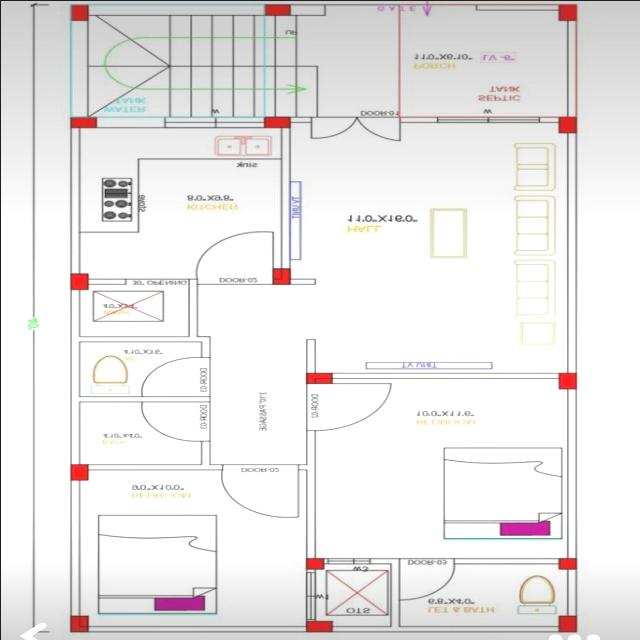Blueprint: (52, 0, 598, 640)
column: (66, 458, 94, 482), (64, 613, 90, 634), (554, 369, 580, 390), (67, 1, 93, 22), (261, 1, 293, 18), (552, 614, 578, 634), (267, 266, 293, 286), (65, 270, 91, 290), (554, 114, 579, 134), (556, 0, 578, 22), (302, 370, 334, 385), (261, 113, 291, 129), (302, 619, 334, 633), (553, 555, 579, 571), (67, 115, 99, 128), (302, 554, 326, 570)
wall: (563, 130, 579, 374), (82, 1, 268, 18), (66, 287, 82, 466), (563, 386, 579, 560), (274, 125, 292, 271), (66, 123, 83, 274), (84, 623, 308, 634), (66, 18, 90, 119), (302, 428, 320, 560), (328, 624, 561, 634), (328, 370, 560, 380), (66, 478, 82, 618), (66, 394, 212, 404), (82, 462, 226, 472), (564, 18, 578, 118), (68, 334, 212, 343), (386, 556, 402, 634), (91, 114, 167, 129), (183, 276, 200, 342), (450, 556, 560, 566), (472, 1, 562, 12), (564, 566, 578, 618), (286, 1, 326, 17), (301, 338, 317, 373), (198, 438, 212, 471), (82, 276, 128, 286), (197, 334, 213, 359), (396, 115, 439, 124), (366, 556, 402, 566), (284, 276, 318, 286), (286, 114, 314, 124), (535, 114, 561, 124)
